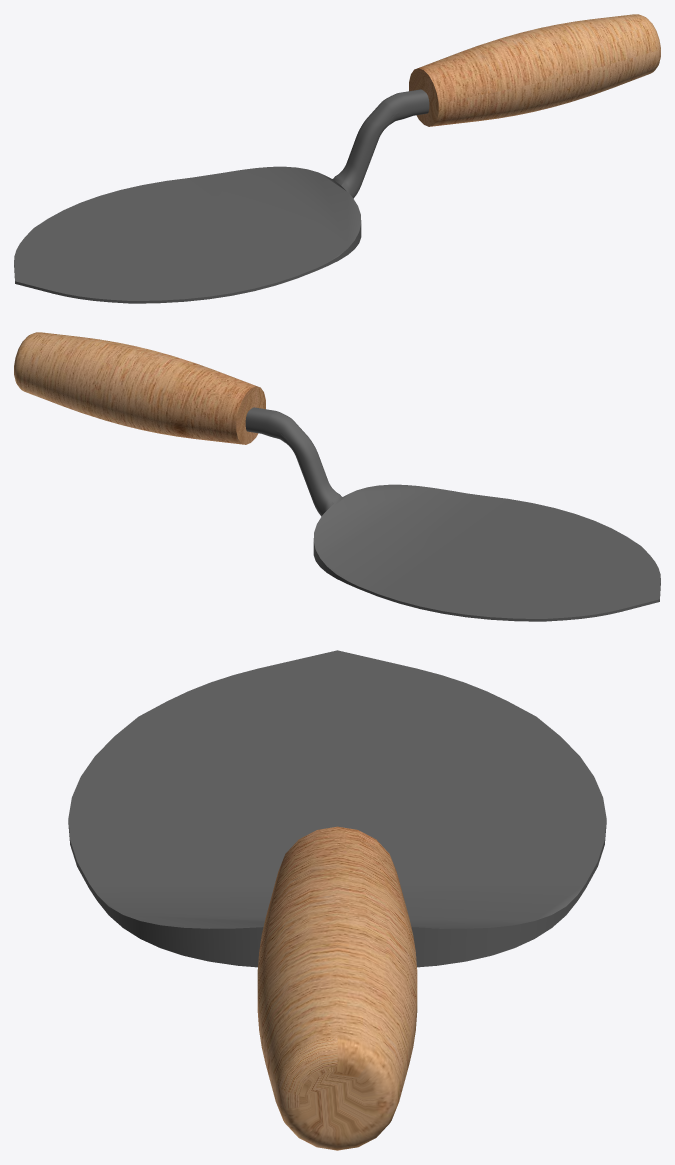
Rendered from spade.FBX.
3 views of the same model, one above another, from view 1: azimuth 30°, elevation 25°; view 2: azimuth 150°, elevation 25°; view 3: azimuth 270°, elevation 25° (orthographic). The views are drawn at different scales.
Parts seen in each view (by area): view 1: kurni; view 2: kurni; view 3: kurni.
Boxes of the visible parts, bbox=[...] form: kurni: bbox=[14, 14, 660, 303]; kurni: bbox=[14, 332, 660, 621]; kurni: bbox=[68, 650, 606, 1150].
Bounding box in the file's own units: 48.16 × 8.95 × 17.69.
2 materials, 2 textured.
